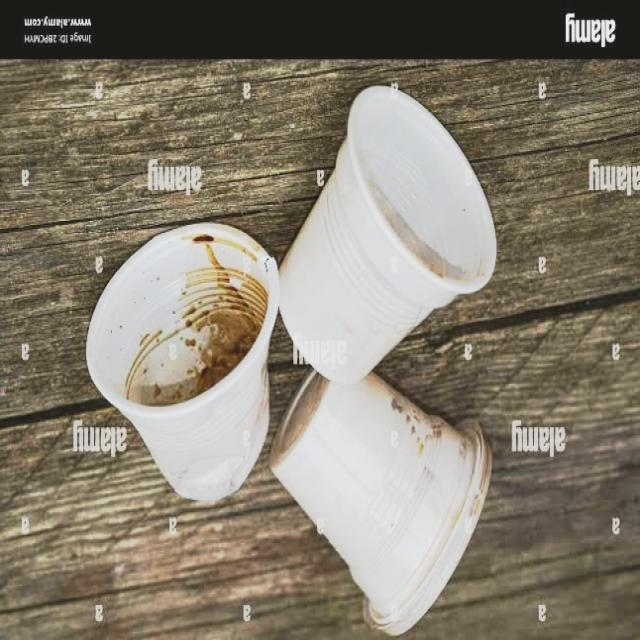plastic: (274, 69, 506, 388), (264, 355, 503, 639), (78, 212, 290, 518)
